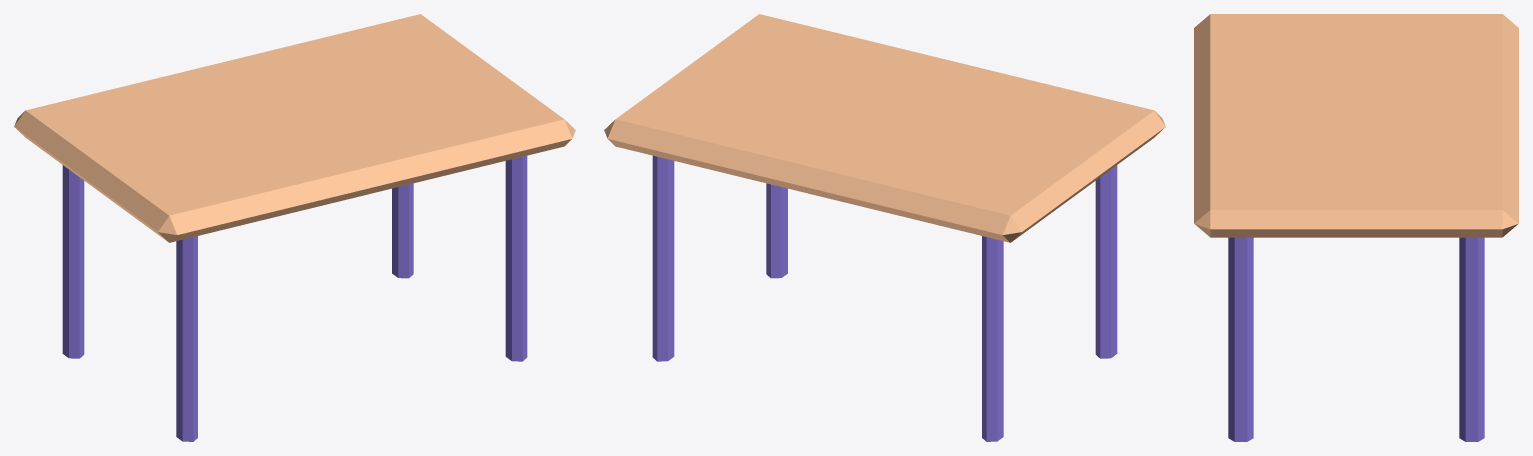
The picture shows the model from 3 angles, left to right: view 1: azimuth 30°, elevation 25°; view 2: azimuth 150°, elevation 25°; view 3: azimuth 270°, elevation 25°; orthographic projection.
Visible parts, largest first — view 1: Rounded table top, Leg.002, Leg, Leg.001, Leg.003; view 2: Rounded table top, Leg.003, Leg.001, Leg, Leg.002; view 3: Rounded table top, Leg.002, Leg.003.
Boxes of the visible parts, x1=… form: Rounded table top: x1=14, y1=14, x2=575, y2=242; Leg.002: x1=505, y1=155, x2=527, y2=361; Leg: x1=176, y1=236, x2=197, y2=441; Leg.001: x1=62, y1=165, x2=84, y2=358; Leg.003: x1=392, y1=183, x2=413, y2=278; Rounded table top: x1=604, y1=14, x2=1165, y2=242; Leg.003: x1=652, y1=155, x2=674, y2=361; Leg.001: x1=982, y1=236, x2=1003, y2=441; Leg: x1=1095, y1=165, x2=1117, y2=358; Leg.002: x1=766, y1=183, x2=787, y2=278; Rounded table top: x1=1194, y1=14, x2=1518, y2=237; Leg.002: x1=1228, y1=237, x2=1253, y2=441; Leg.003: x1=1459, y1=237, x2=1484, y2=441.
Bounding box in the file's own units: 1.15 × 0.636 × 0.765.
1 material, 1 textured.
